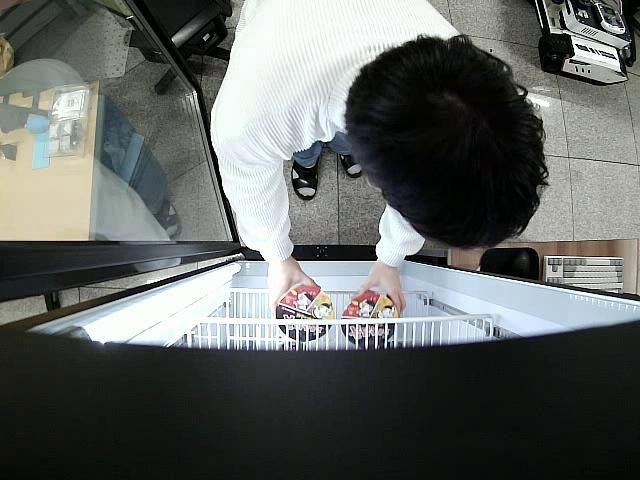07_buldak_L: (275, 283, 334, 340), (342, 292, 400, 346)
